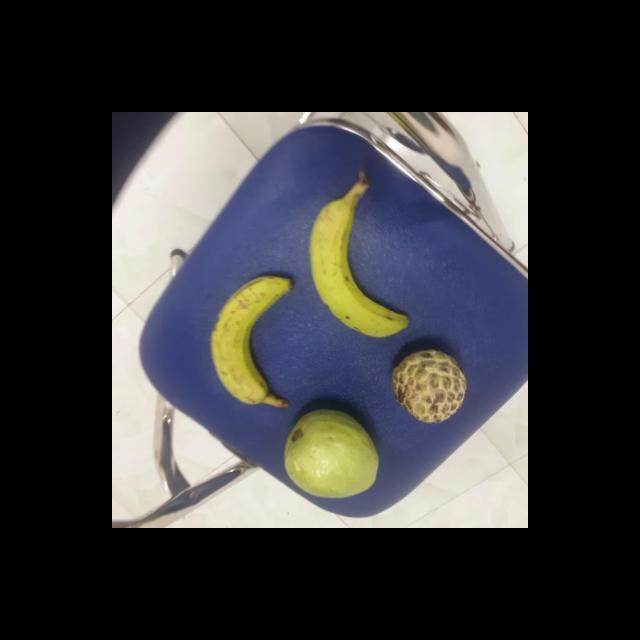Sakya fruit: (393, 349, 471, 424)
banana: (310, 194, 412, 336), (210, 276, 294, 409)
guava: (284, 406, 380, 502)
